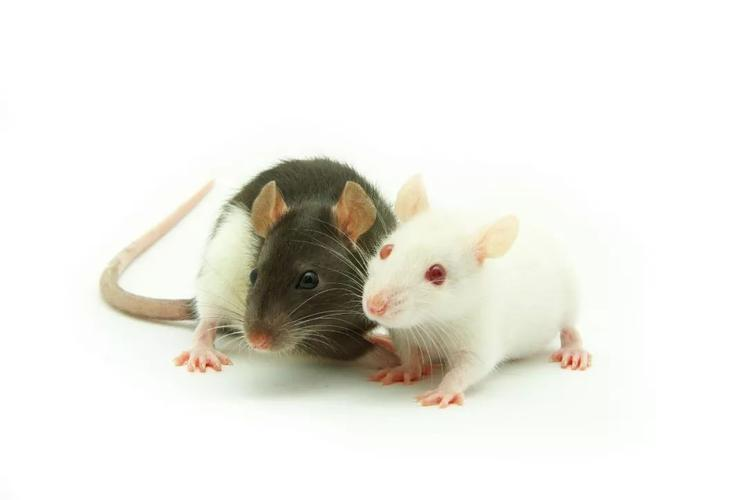rat: (329, 155, 586, 401), (160, 139, 430, 369)
